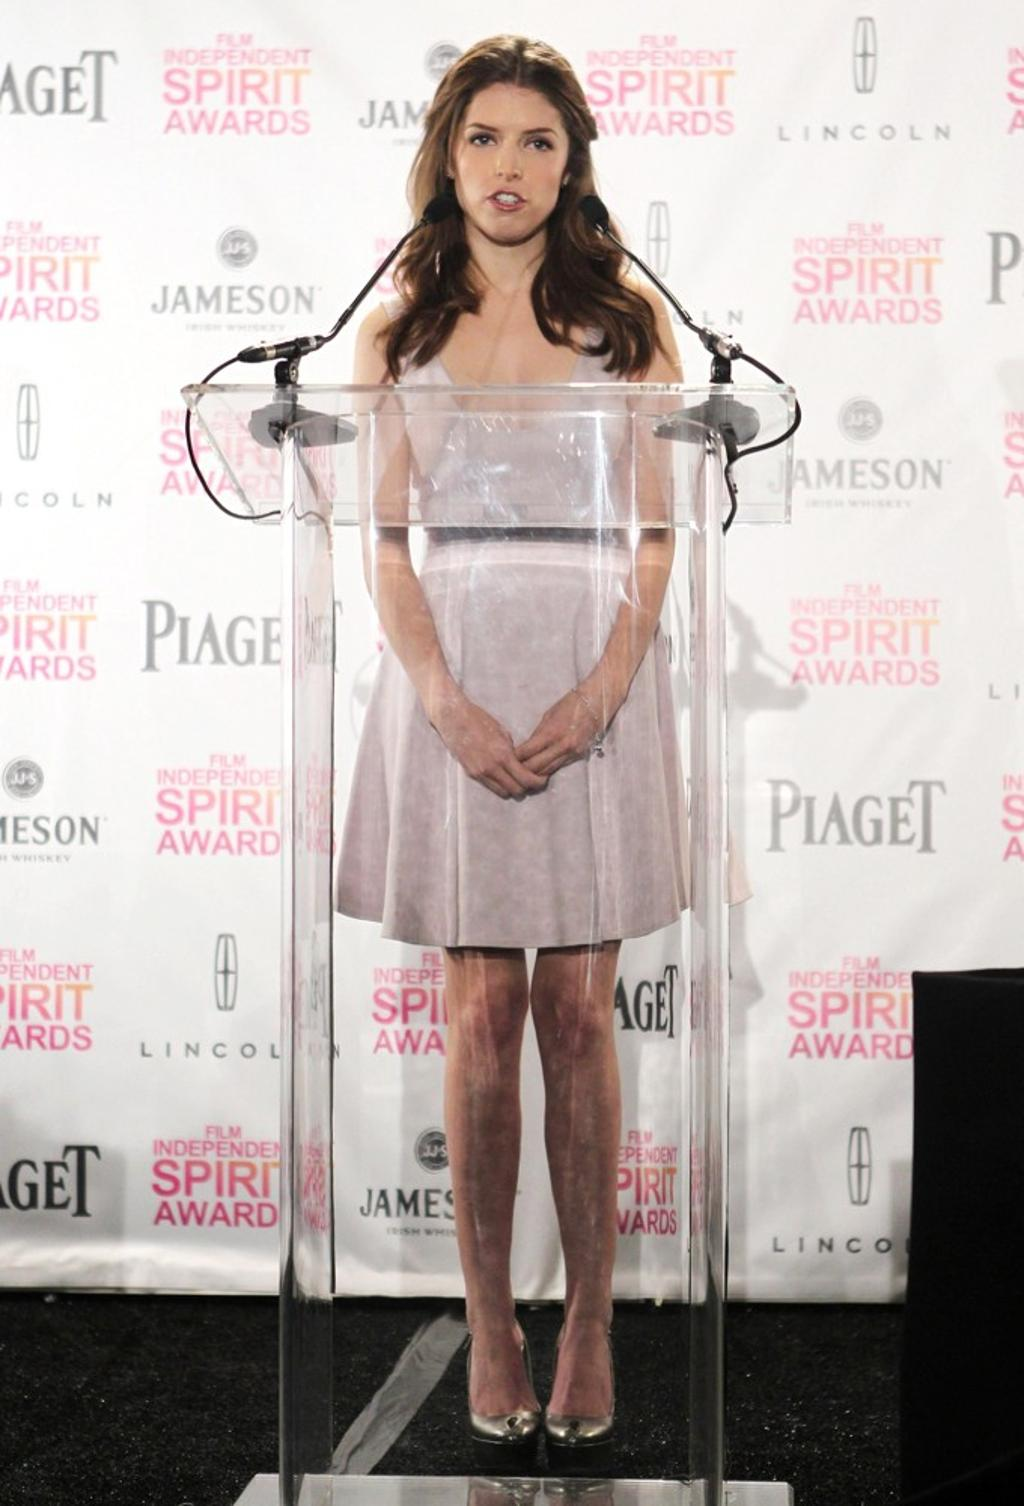face: (456, 91, 559, 238)
